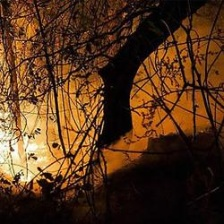fire: (1, 81, 104, 196)
